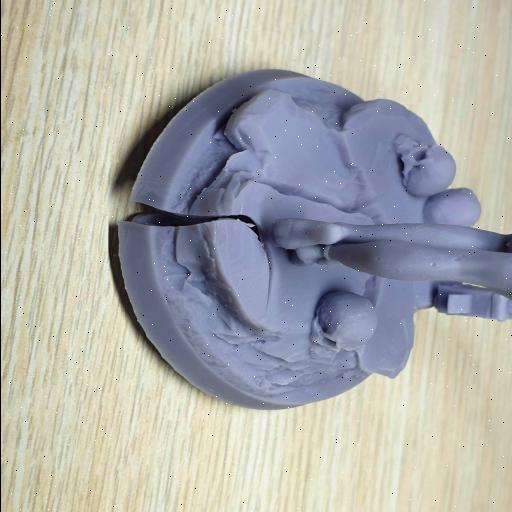cracks: (118, 192, 290, 292)
